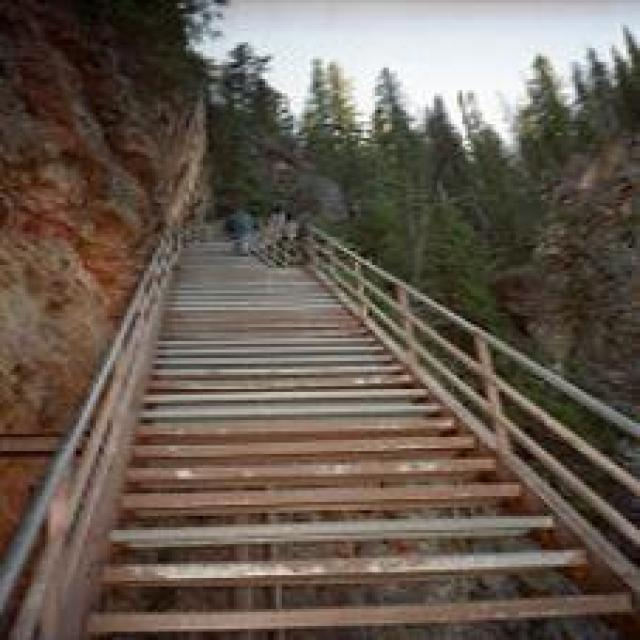upstair: (145, 367, 531, 613)
